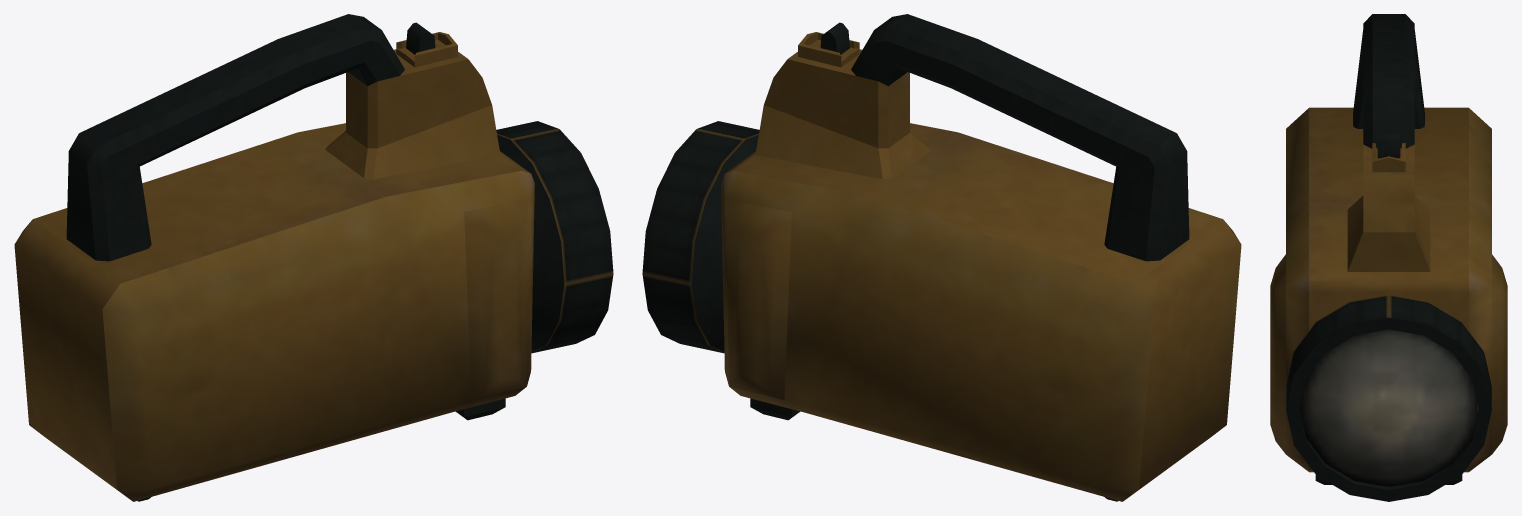
File: flashlight_1.dae
3 views of the same model, side by side, from view 1: azimuth 30°, elevation 25°; view 2: azimuth 150°, elevation 25°; view 3: azimuth 270°, elevation 25° (orthographic). The views are drawn at different scales.
Parts seen in each view (by area): view 1: flashlight_1; view 2: flashlight_1; view 3: flashlight_1.
Boxes of the visible parts, left/top/right/bottom form: flashlight_1: left=14, top=14, right=613, bottom=501; flashlight_1: left=642, top=14, right=1241, bottom=501; flashlight_1: left=1270, top=14, right=1507, bottom=501.
Size of the model in its own units: 0.3801 by 0.1656 by 0.2745.
Materials: 1 (1 with a texture image).
